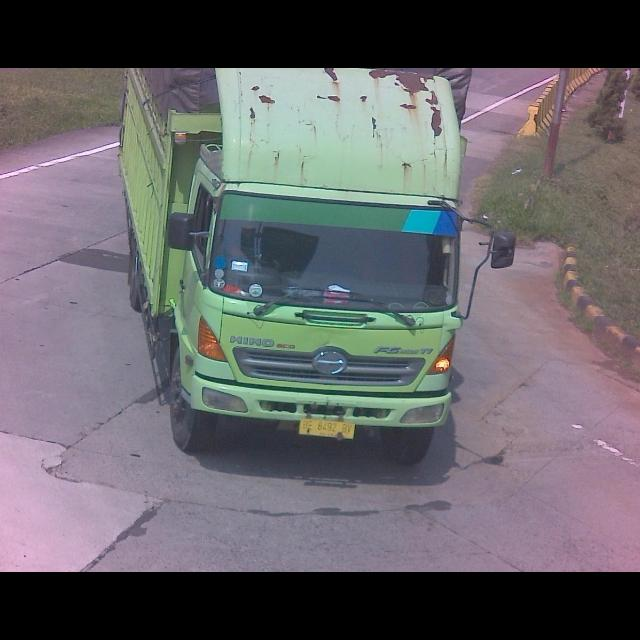plate: (298, 416, 360, 442)
